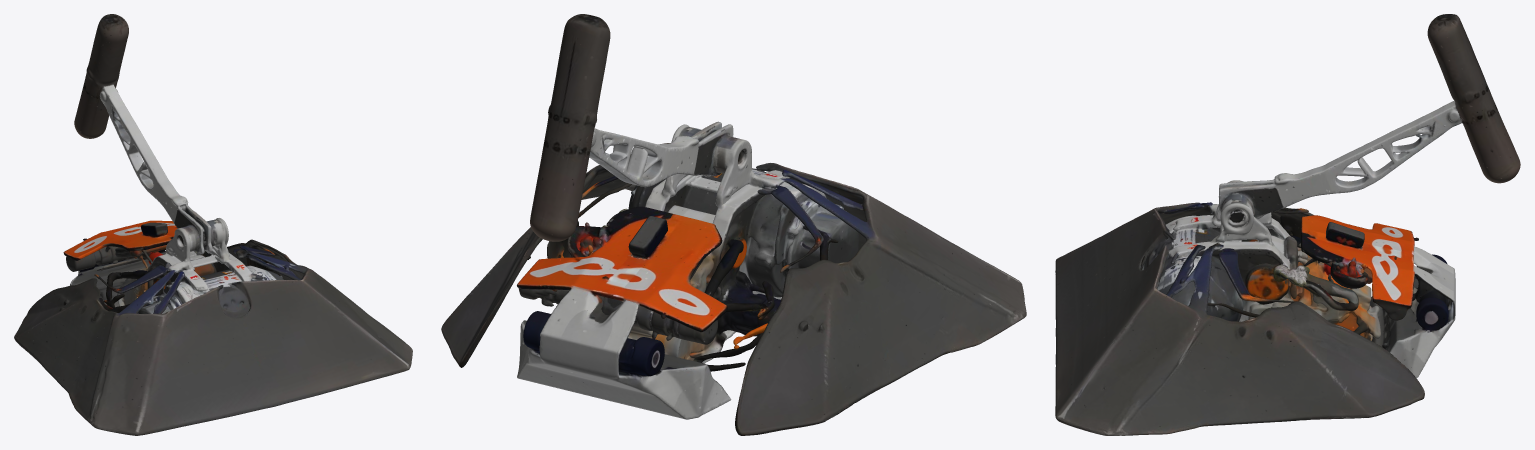
File: beta.glb
3 views of the same model, side by side, from view 1: azimuth 30°, elevation 25°; view 2: azimuth 150°, elevation 25°; view 3: azimuth 270°, elevation 25° (orthographic). The views are drawn at different scales.
Parts seen in each view (by area): view 1: tripo_part_2, tripo_part_15, tripo_part_20, tripo_part_13, tripo_part_18, tripo_part_10, tripo_part_19, tripo_part_8, tripo_part_0, tripo_part_5, tripo_part_3, tripo_part_6; view 2: tripo_part_2, tripo_part_13, tripo_part_18, tripo_part_19, tripo_part_20, tripo_part_8, tripo_part_15, tripo_part_10, tripo_part_9, tripo_part_4, tripo_part_16; view 3: tripo_part_8, tripo_part_2, tripo_part_13, tripo_part_18, tripo_part_15, tripo_part_20, tripo_part_19, tripo_part_10, tripo_part_7, tripo_part_14, tripo_part_5, tripo_part_11 (+3 smaller).
Part boxes in pixels (x1=…): tripo_part_2: x1=14, y1=268, x2=412, y2=435; tripo_part_15: x1=100, y1=82, x2=211, y2=250; tripo_part_20: x1=74, y1=14, x2=128, y2=138; tripo_part_13: x1=94, y1=249, x2=260, y2=313; tripo_part_18: x1=63, y1=220, x2=177, y2=284; tripo_part_10: x1=166, y1=218, x2=229, y2=261; tripo_part_19: x1=70, y1=249, x2=165, y2=307; tripo_part_8: x1=227, y1=239, x2=412, y2=396; tripo_part_0: x1=219, y1=283, x2=250, y2=317; tripo_part_5: x1=236, y1=249, x2=297, y2=279; tripo_part_3: x1=223, y1=256, x2=272, y2=281; tripo_part_6: x1=172, y1=257, x2=207, y2=291; tripo_part_2: x1=581, y1=143, x2=1026, y2=435; tripo_part_13: x1=560, y1=174, x2=840, y2=371; tripo_part_18: x1=517, y1=206, x2=727, y2=344; tripo_part_19: x1=517, y1=287, x2=731, y2=419; tripo_part_20: x1=530, y1=14, x2=610, y2=241; tripo_part_8: x1=441, y1=143, x2=860, y2=367; tripo_part_15: x1=589, y1=121, x2=733, y2=187; tripo_part_10: x1=662, y1=124, x2=756, y2=206; tripo_part_9: x1=747, y1=204, x2=778, y2=266; tripo_part_4: x1=811, y1=217, x2=858, y2=264; tripo_part_16: x1=628, y1=216, x2=667, y2=258; tripo_part_8: x1=1057, y1=268, x2=1424, y2=435; tripo_part_2: x1=1055, y1=202, x2=1313, y2=433; tripo_part_13: x1=1142, y1=202, x2=1380, y2=341; tripo_part_18: x1=1298, y1=215, x2=1418, y2=320; tripo_part_15: x1=1218, y1=100, x2=1462, y2=219; tripo_part_20: x1=1427, y1=14, x2=1520, y2=183; tripo_part_19: x1=1370, y1=247, x2=1455, y2=377; tripo_part_10: x1=1214, y1=180, x2=1272, y2=245; tripo_part_7: x1=1157, y1=259, x2=1243, y2=321; tripo_part_14: x1=1246, y1=262, x2=1304, y2=303; tripo_part_5: x1=1170, y1=243, x2=1223, y2=295; tripo_part_11: x1=1218, y1=248, x2=1296, y2=302.
Size of the model in its own units: 0.956 by 0.7785 by 1.
21 materials, 21 textured.
